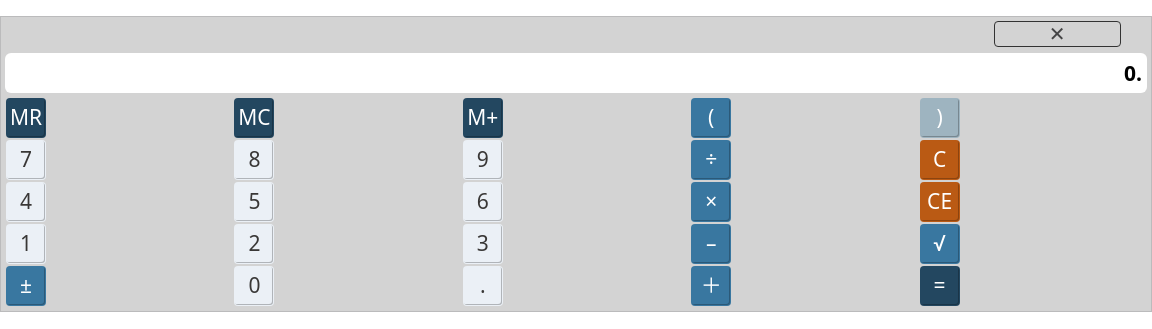
TestCalc › click inputs › should produce div by 0 errors
Click the button "1" at (26, 244), box left=6, top=224, right=46, bottom=264
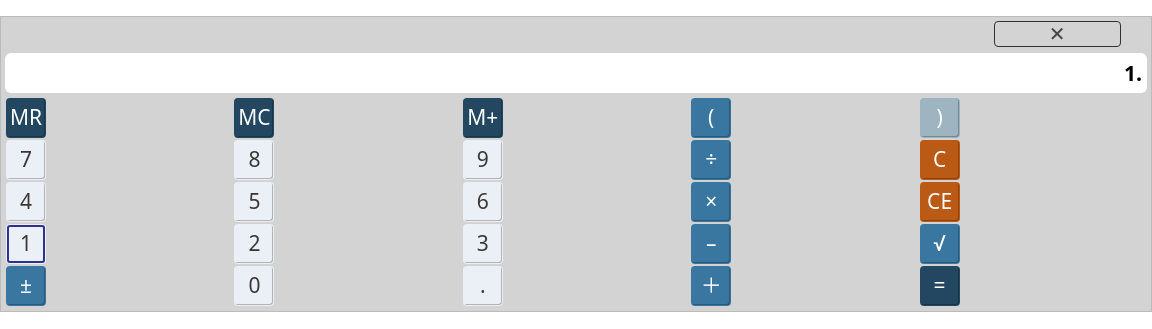
Click the button "÷" at (711, 160), box left=691, top=140, right=731, bottom=180
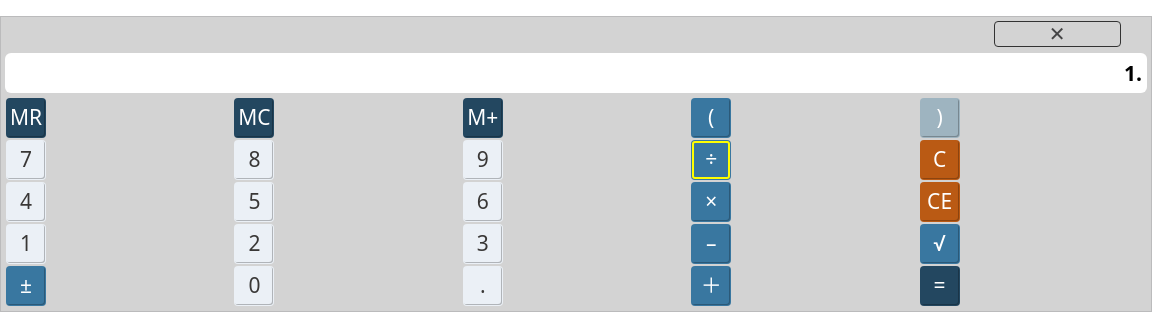
Click the button "0" at (254, 286), box left=234, top=266, right=274, bottom=306
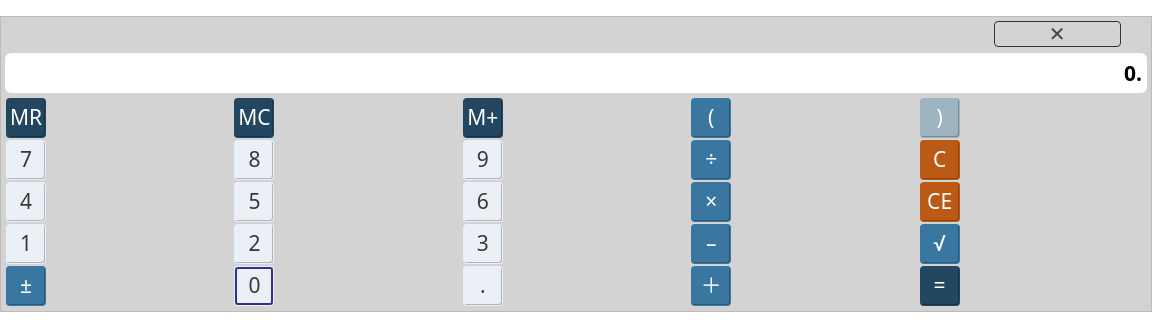
Click the button "=" at (940, 286), box left=920, top=266, right=960, bottom=306
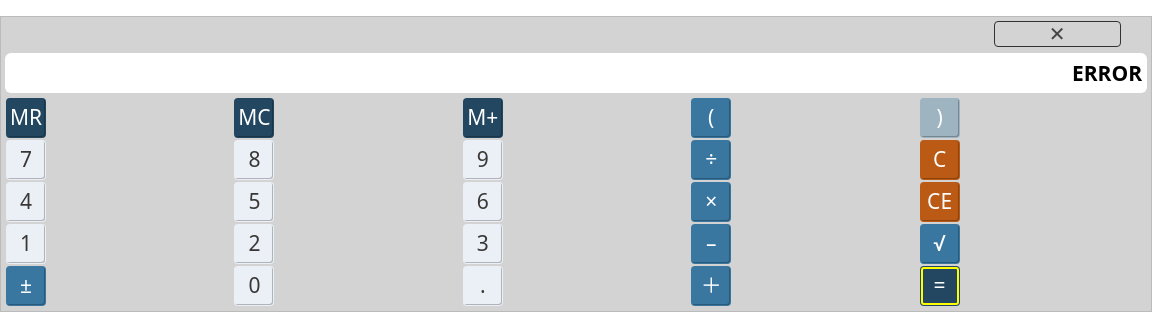
Now the text "ERROR" is shown, box left=1072, top=59, right=1142, bottom=87
